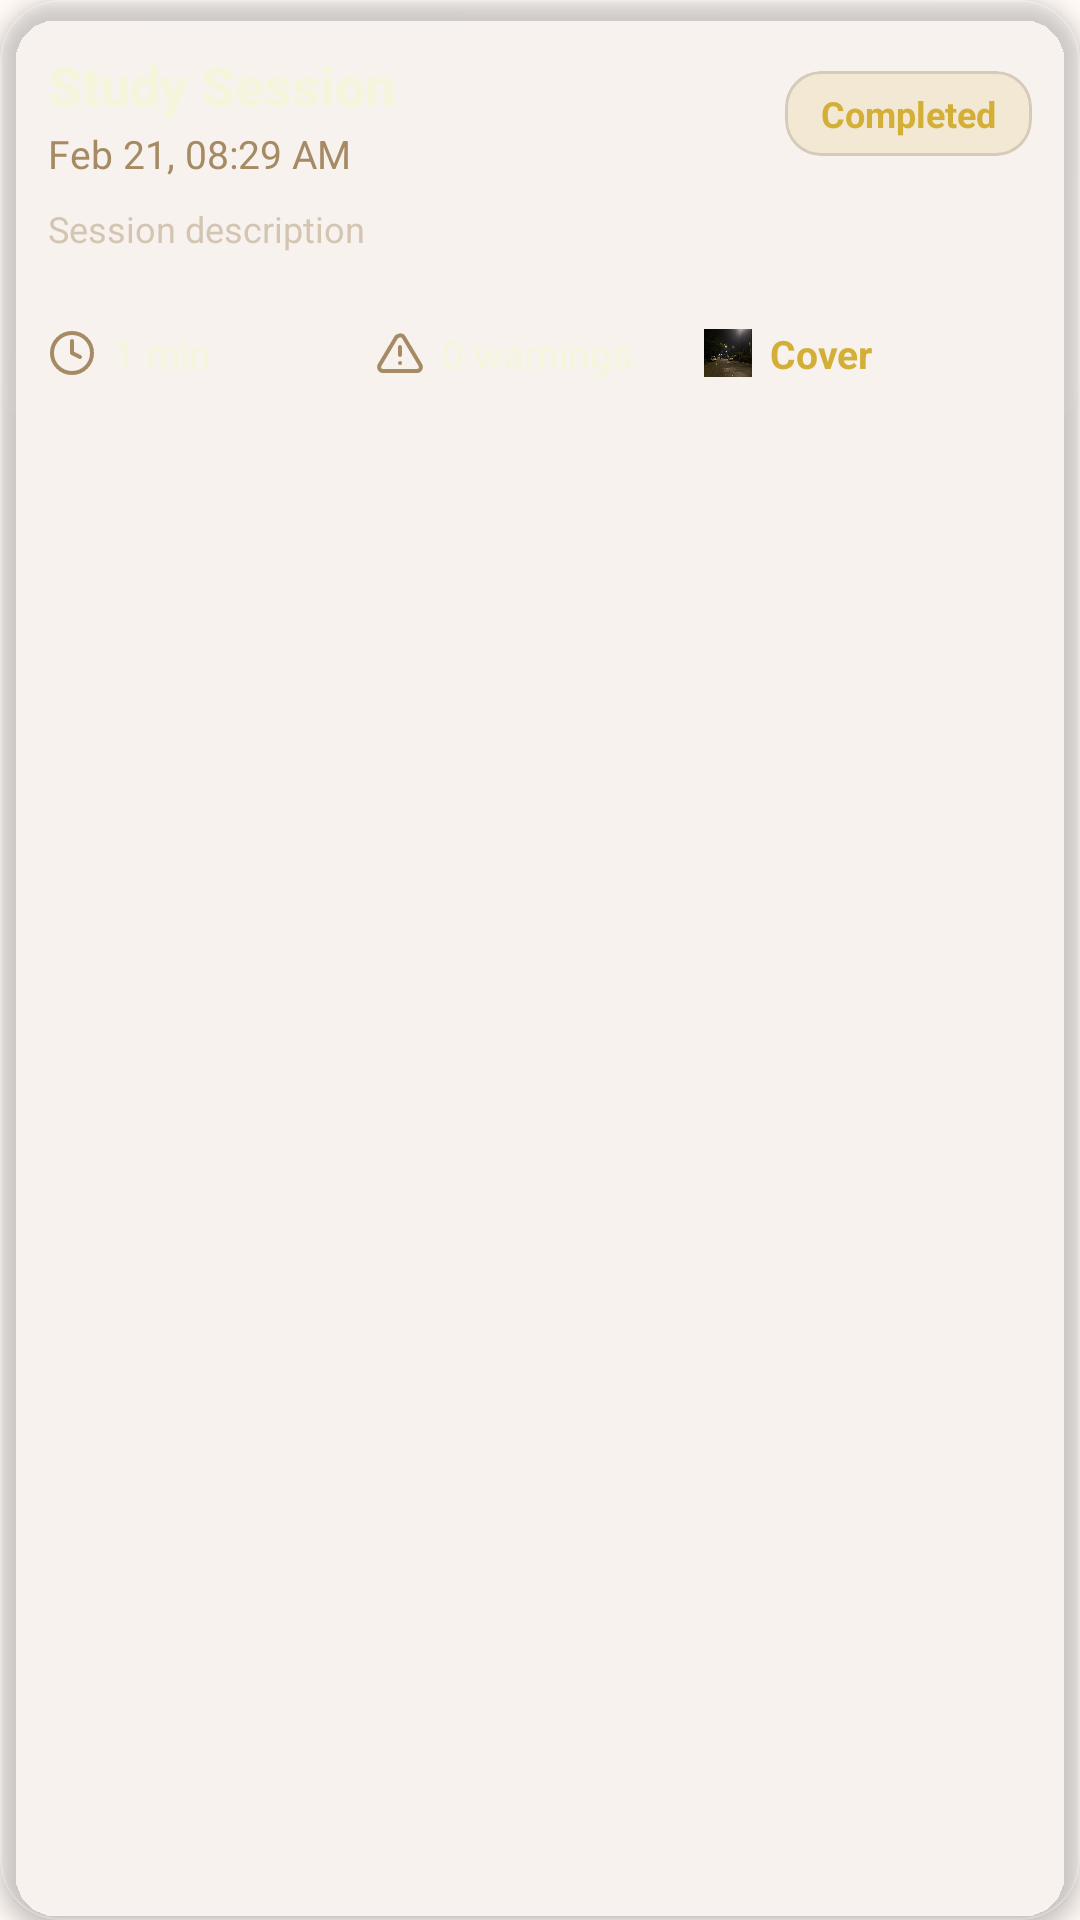

Screen size 1080×1920. Icon name, then its box in pixels as (x1, y1, x2, y2):
clock: (50, 331, 94, 375)
